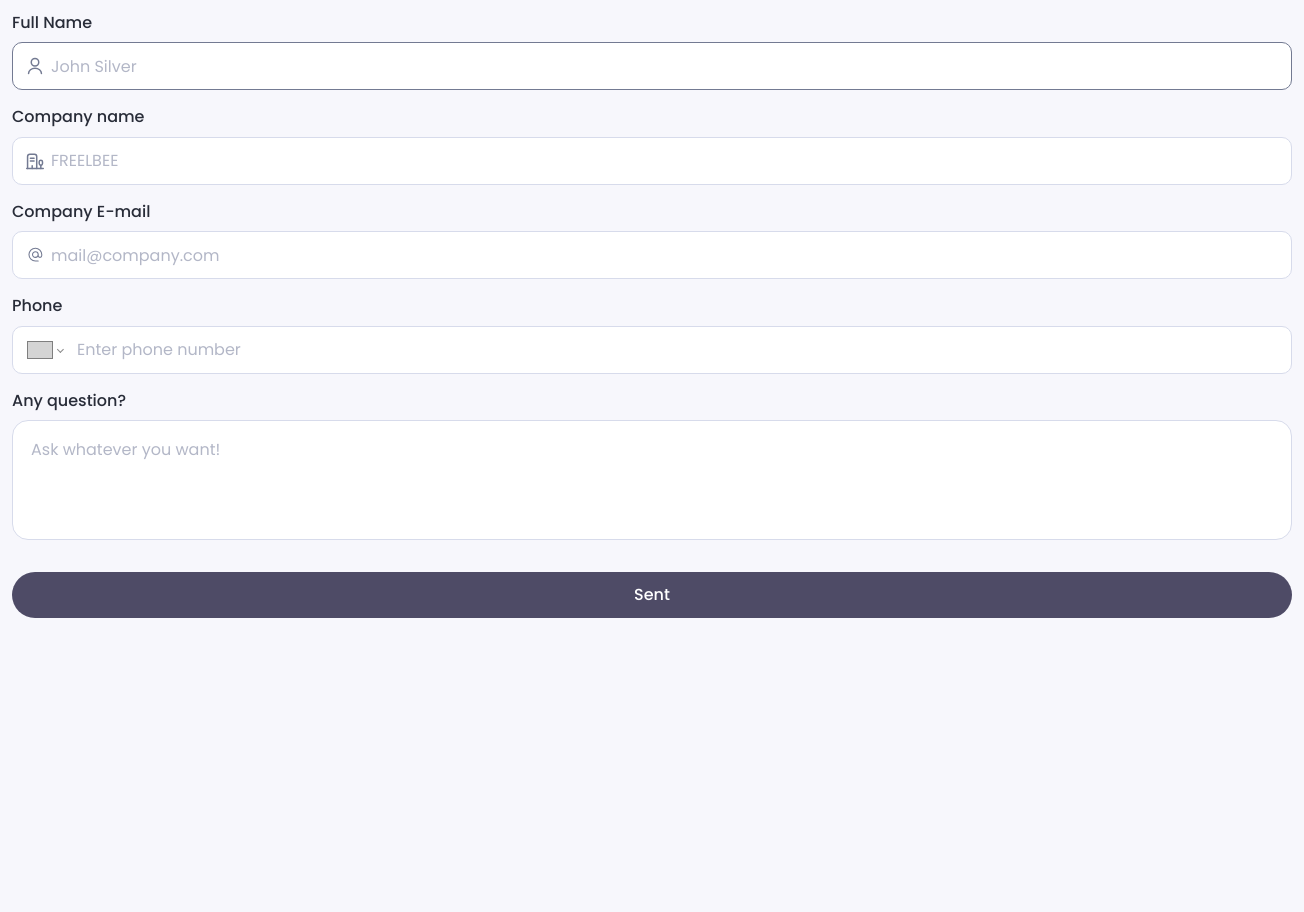
Scenario: Application form tests › should show two errors if empty fields
Click the button with test id "landing-form-submit": (652, 595) 12,572 -> 1292,618
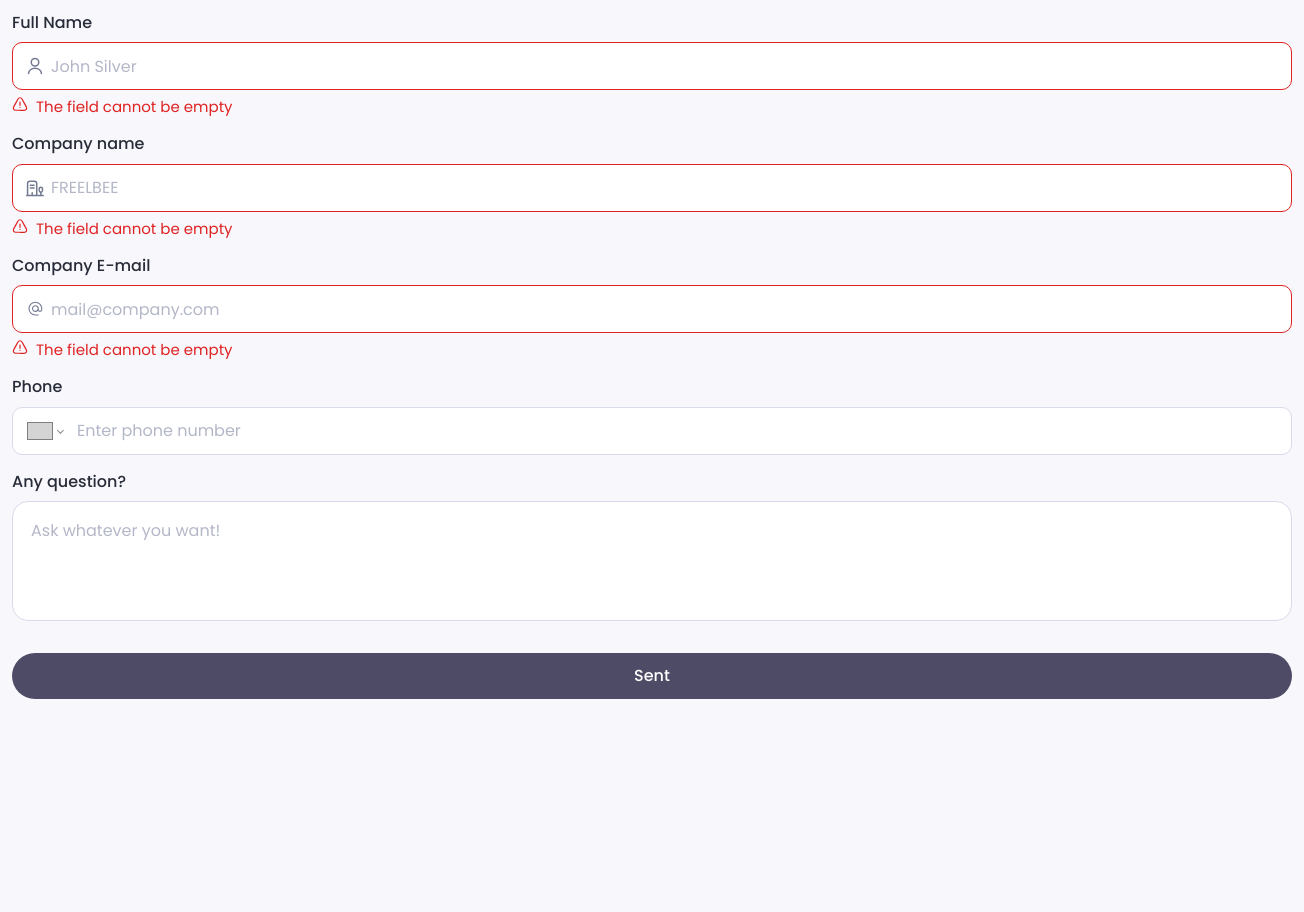
Check: the text "The field cannot be empty" is shown 3 times, box 36,96 -> 232,117; 36,218 -> 232,239; 36,339 -> 232,360
